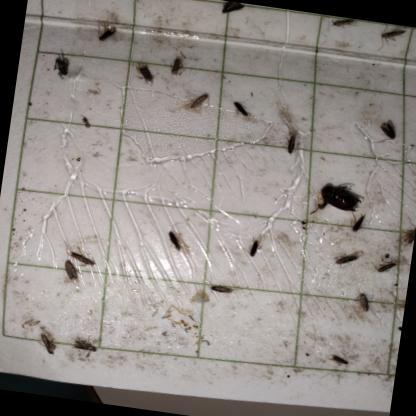prays_oleae: (156, 221, 189, 267), (329, 240, 365, 280), (92, 11, 121, 60), (276, 123, 304, 171), (394, 206, 416, 260), (34, 325, 63, 365), (64, 242, 100, 274), (374, 245, 404, 282), (353, 282, 377, 328), (203, 272, 237, 304), (226, 90, 254, 128), (322, 341, 350, 377), (374, 107, 400, 144), (168, 38, 188, 86), (73, 330, 103, 362), (46, 49, 73, 84), (130, 60, 156, 94), (374, 26, 406, 53), (244, 232, 267, 269), (186, 86, 211, 118), (57, 260, 82, 292), (350, 208, 366, 236)
